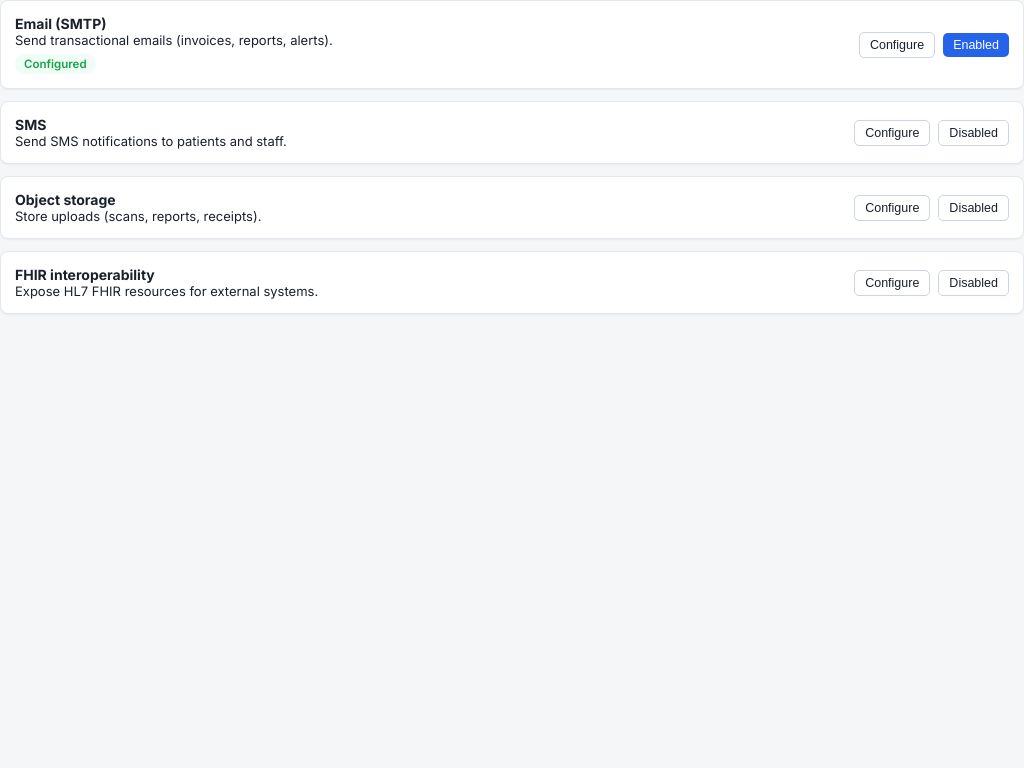
Test: IntegrationSettings › saves config and closes the form
Expected: the text "Email (SMTP)" is shown, [15, 15, 106, 32]
Click the 1st button "Configure" at (897, 44), box [859, 32, 935, 58]
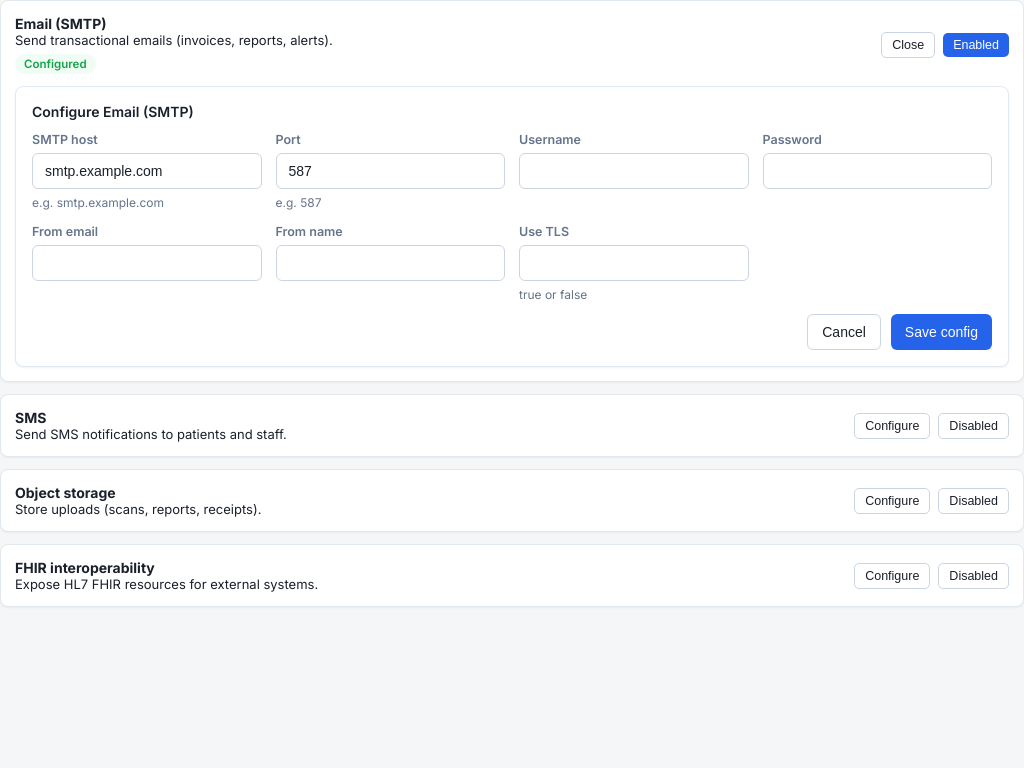
Replace the text in the field labelled "SMTP host" with "smtp2.example.com" at (147, 171), box [32, 153, 262, 189]
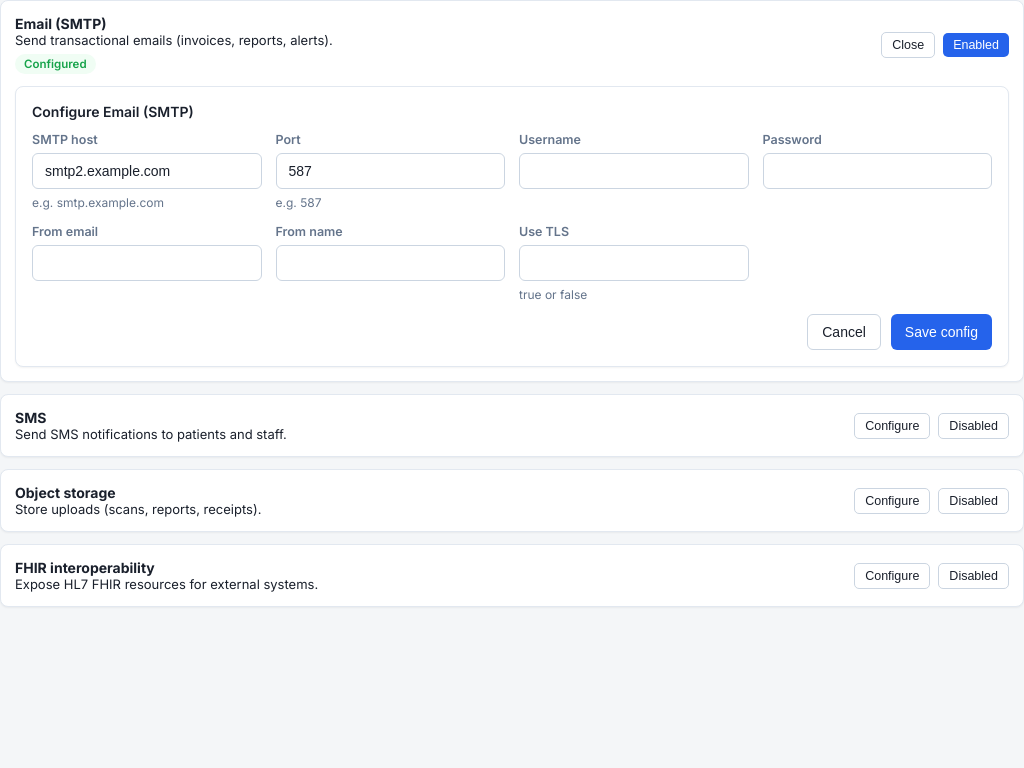
Click the button "Save config" at (941, 332), box [891, 314, 992, 350]
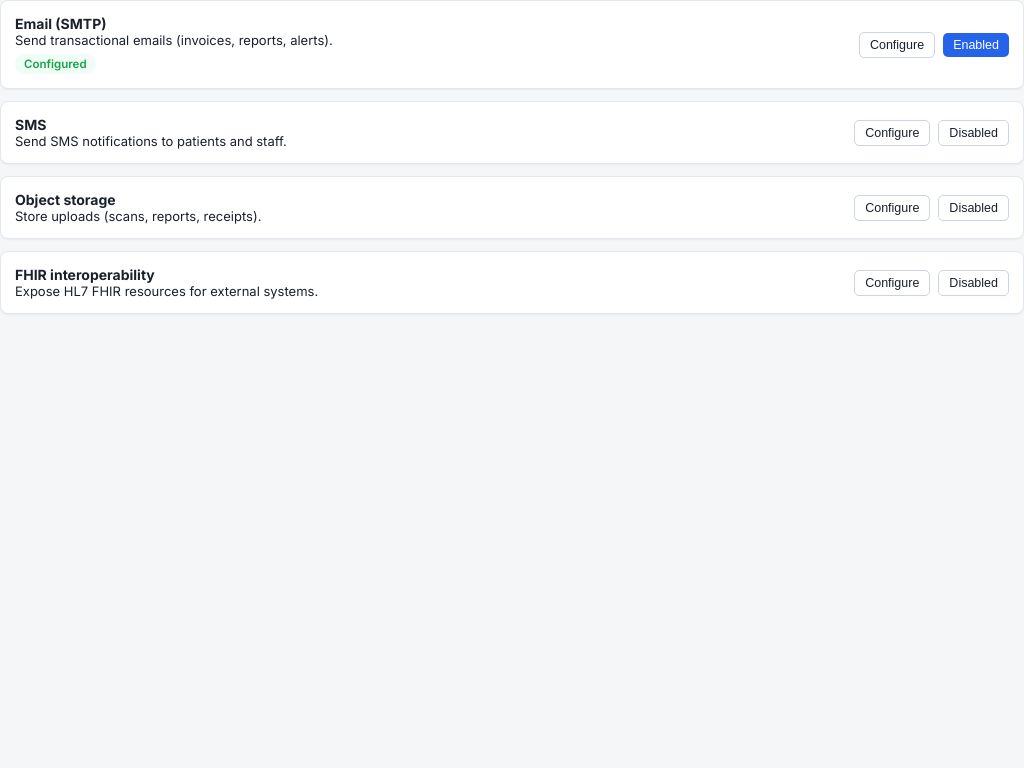
Expected: the button "Save config" is gone
